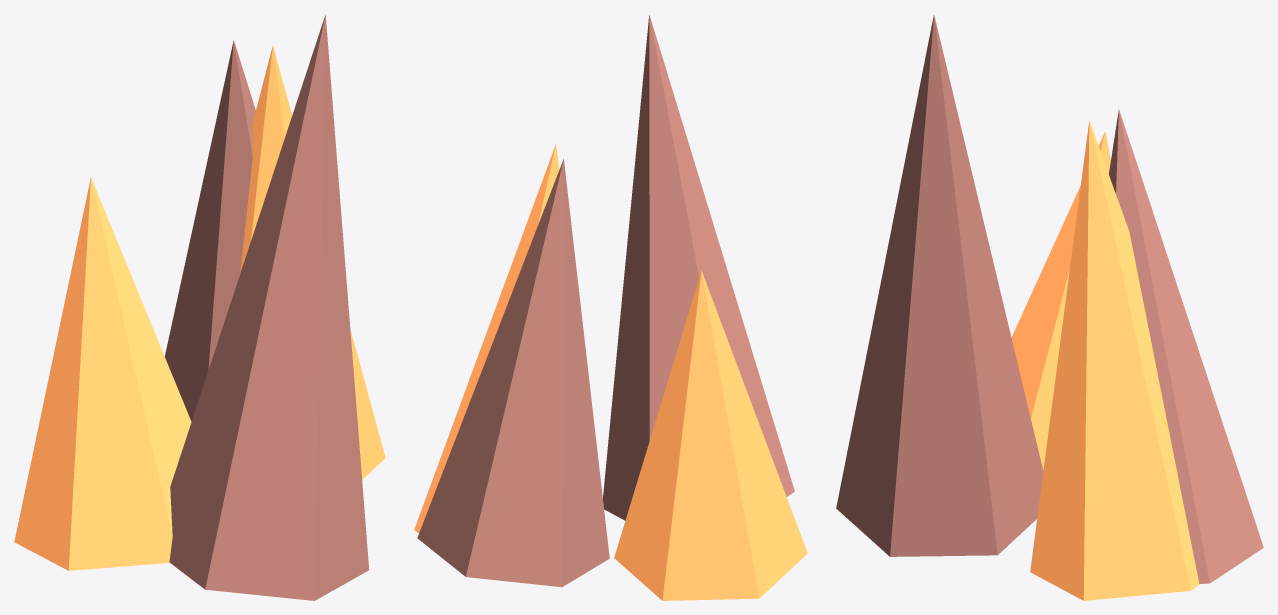
File: ember_crystal_b.glb
3 views of the same model, side by side, from view 1: azimuth 30°, elevation 25°; view 2: azimuth 150°, elevation 25°; view 3: azimuth 270°, elevation 25° (orthographic). The views are drawn at different scales.
Parts seen in each view (by area): view 1: Crystal_01.001, Crystal_02.001, Crystal_03, Crystal_00.001; view 2: Crystal_03, Crystal_02.001, Crystal_01.001, Crystal_00.001; view 3: Crystal_01.001, Crystal_00.001, Crystal_03, Crystal_02.001.
Part boxes in pixels (x1,y1,x2,y2): Crystal_01.001: (169, 15, 369, 600); Crystal_02.001: (14, 178, 191, 570); Crystal_03: (164, 40, 255, 421); Crystal_00.001: (240, 45, 385, 479); Crystal_03: (417, 159, 609, 587); Crystal_02.001: (614, 271, 807, 600); Crystal_01.001: (603, 15, 794, 520); Crystal_00.001: (414, 144, 559, 533); Crystal_01.001: (836, 15, 1043, 556); Crystal_00.001: (1030, 121, 1199, 600); Crystal_03: (1109, 109, 1263, 584); Crystal_02.001: (1011, 131, 1110, 470).
Size of the model in its own units: 1.94 by 2.84 by 2.06.
